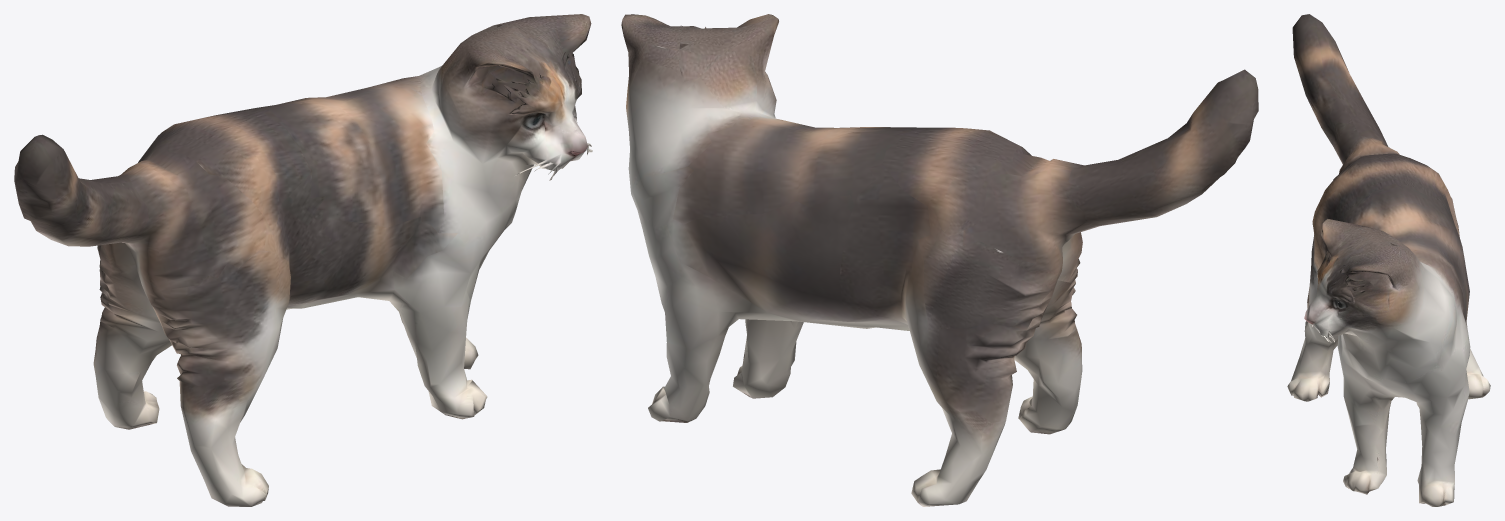
Rendered from MEMOPAW-lo.glb.
3 renders of one model, left to right at view 1: azimuth 30°, elevation 25°; view 2: azimuth 150°, elevation 25°; view 3: azimuth 270°, elevation 25°, orthographic. The views are drawn at different scales.
Visible parts, largest first — view 1: tripo_node_90f17b8f-6b9c-44c2-943f-0f468b149538; view 2: tripo_node_90f17b8f-6b9c-44c2-943f-0f468b149538; view 3: tripo_node_90f17b8f-6b9c-44c2-943f-0f468b149538.
Boxes of the visible parts, x1=… form: tripo_node_90f17b8f-6b9c-44c2-943f-0f468b149538: x1=14, y1=14, x2=592, y2=506; tripo_node_90f17b8f-6b9c-44c2-943f-0f468b149538: x1=621, y1=14, x2=1258, y2=506; tripo_node_90f17b8f-6b9c-44c2-943f-0f468b149538: x1=1287, y1=14, x2=1490, y2=506.
Size of the model in its own units: 1.54 by 0.9992 by 0.5972.
1 material, 1 textured.
